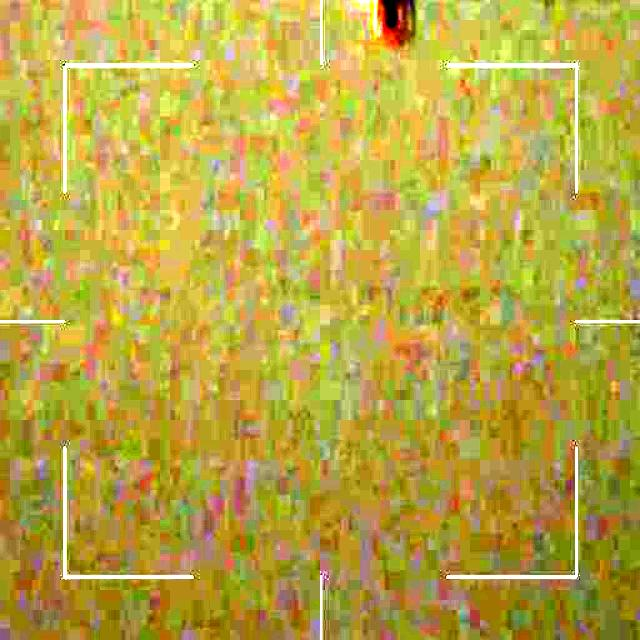bird: (349, 0, 439, 48)
